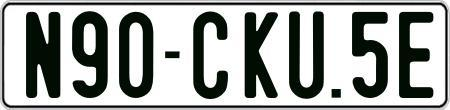0: (117, 12, 155, 98)
5: (350, 10, 387, 98)
9: (71, 10, 108, 99)
C: (190, 12, 230, 102)
E: (398, 9, 433, 97)
K: (243, 12, 278, 99)
N: (26, 9, 62, 96)
U: (287, 9, 323, 99)
